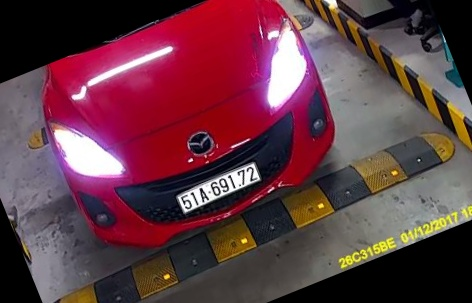plate: (167, 161, 261, 218)
